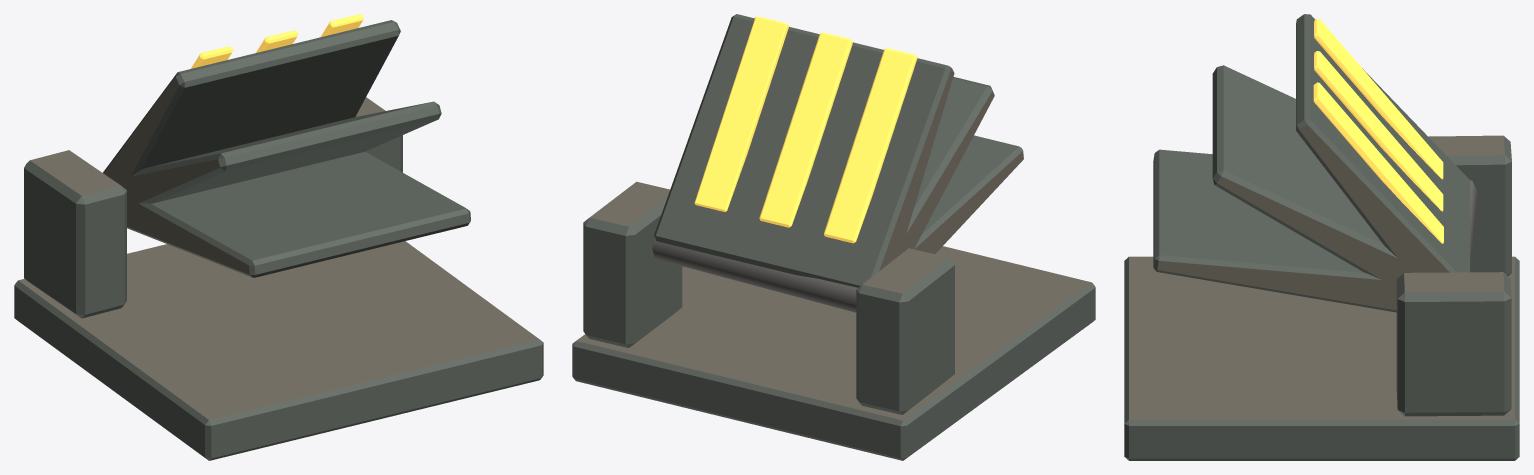
The model's file is R4X_RampDeployer_LOD1.fbx.
3 views of the same model, side by side, from view 1: azimuth 30°, elevation 25°; view 2: azimuth 150°, elevation 25°; view 3: azimuth 270°, elevation 25° (orthographic). The views are drawn at different scales.
Visible parts, largest first — view 1: R4X_RampDeployer_LOD1; view 2: R4X_RampDeployer_LOD1; view 3: R4X_RampDeployer_LOD1.
Part boxes in pixels (x1,y1,x2,y2): R4X_RampDeployer_LOD1: [14, 14, 543, 460]; R4X_RampDeployer_LOD1: [572, 14, 1095, 460]; R4X_RampDeployer_LOD1: [1124, 14, 1519, 460].
Size of the model in its own units: 0.52 by 0.4672 by 0.52.
